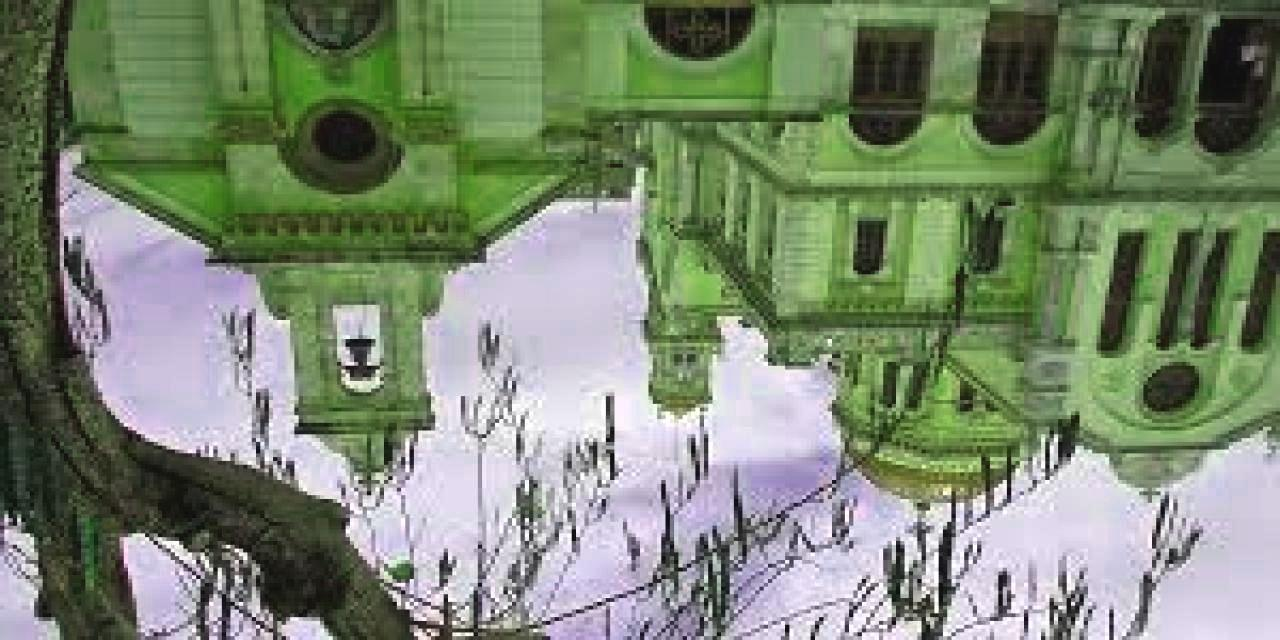Agios Minas: (96, 1, 1280, 630)
